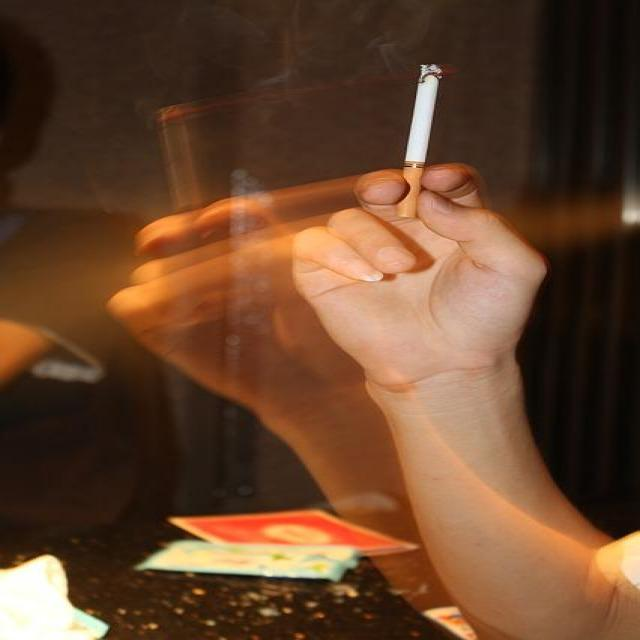smoking: (376, 55, 456, 221)
